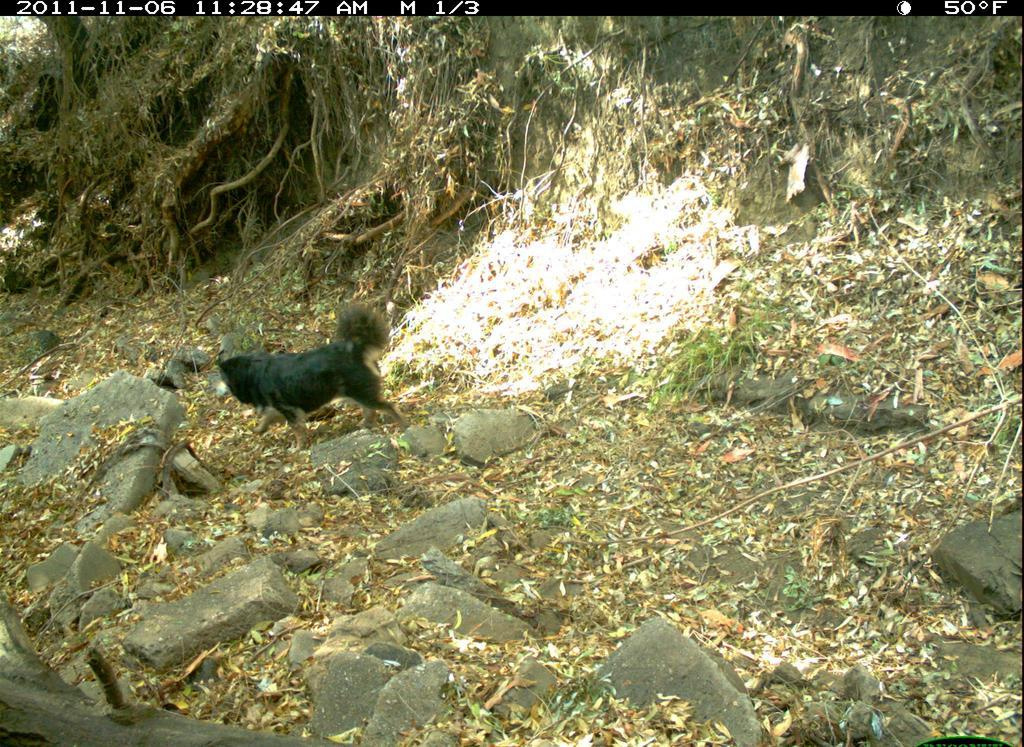dog: (201, 291, 411, 432)
